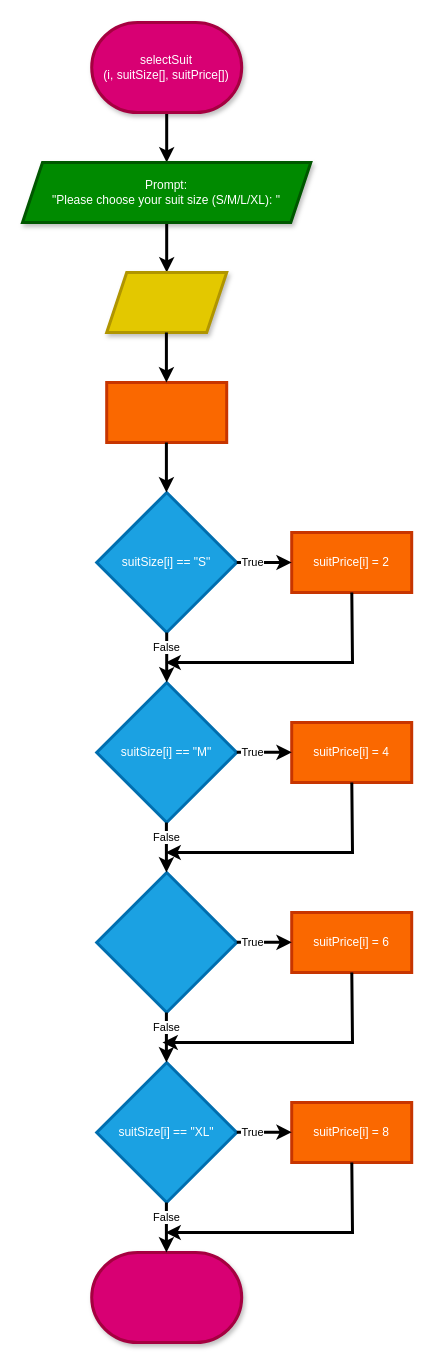
Image size: 431x1368. Some labels were removed from this diagram. Here are the shapes that lost their labels. From the top down, the centre of each, then its label:
the point at 167,303: Input: suitSize[i]
the point at 166,412: suitSize[i] = getValidSizeInput ("suit size")
the point at 166,942: suitSize[i] == "L"
the point at 167,1298: return suitPrice[]
